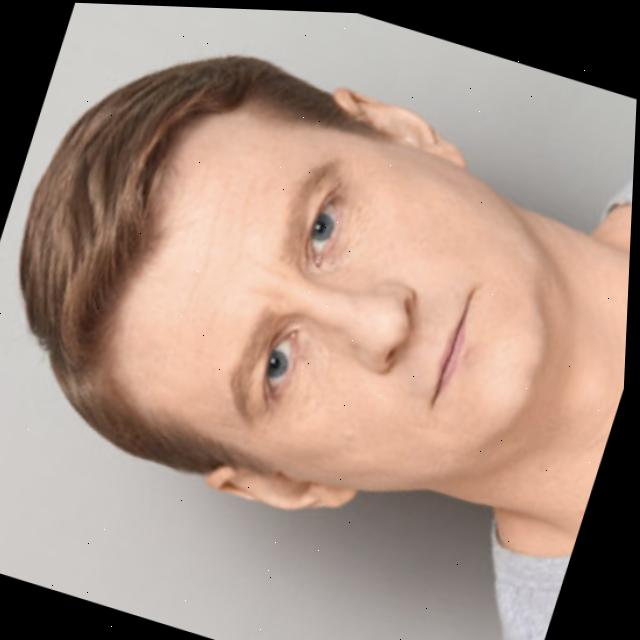natural: (75, 67, 627, 538)
